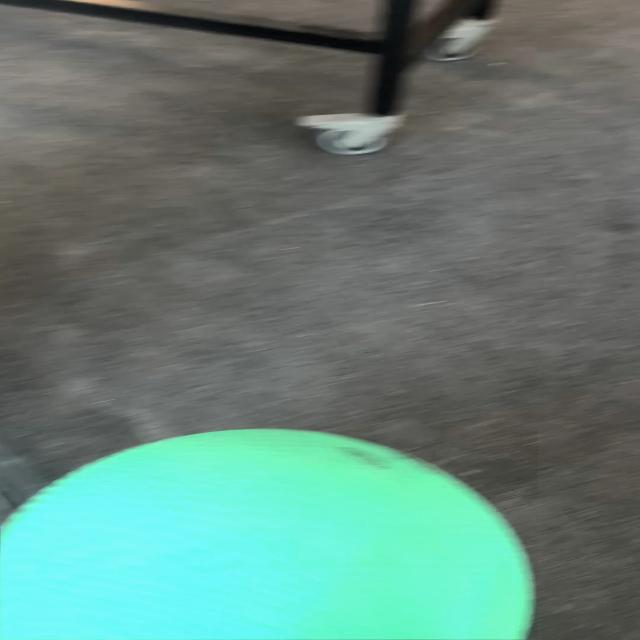Algae: (1, 426, 538, 639)
